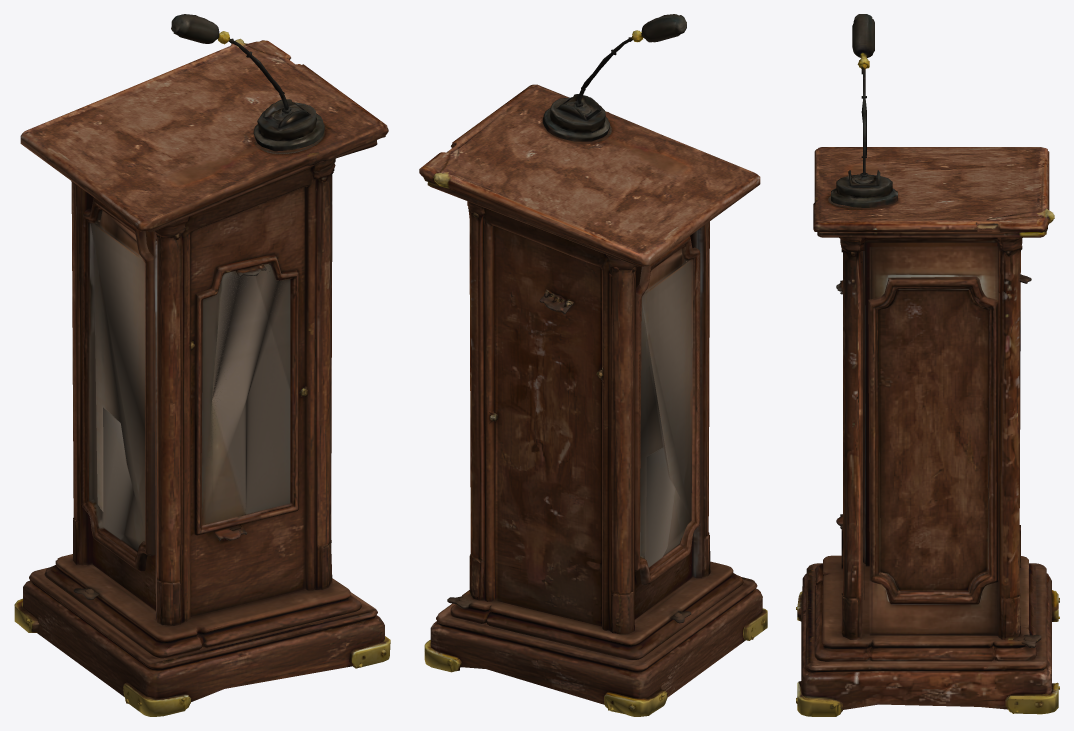
The picture shows the model from 3 angles, left to right: view 1: azimuth 30°, elevation 25°; view 2: azimuth 150°, elevation 25°; view 3: azimuth 270°, elevation 25°; orthographic projection. The views are drawn at different scales.
Parts seen in each view (by area): view 1: tripo_node_67d92269-1dd2-477a-8536-133382833da2; view 2: tripo_node_67d92269-1dd2-477a-8536-133382833da2; view 3: tripo_node_67d92269-1dd2-477a-8536-133382833da2.
Boxes of the visible parts, bbox=[...] form: tripo_node_67d92269-1dd2-477a-8536-133382833da2: bbox=[14, 14, 390, 716]; tripo_node_67d92269-1dd2-477a-8536-133382833da2: bbox=[419, 14, 767, 716]; tripo_node_67d92269-1dd2-477a-8536-133382833da2: bbox=[796, 14, 1059, 716].
Size of the model in its own units: 0.4004 by 0.998 by 0.3848.
Materials: 1 (1 with a texture image).
